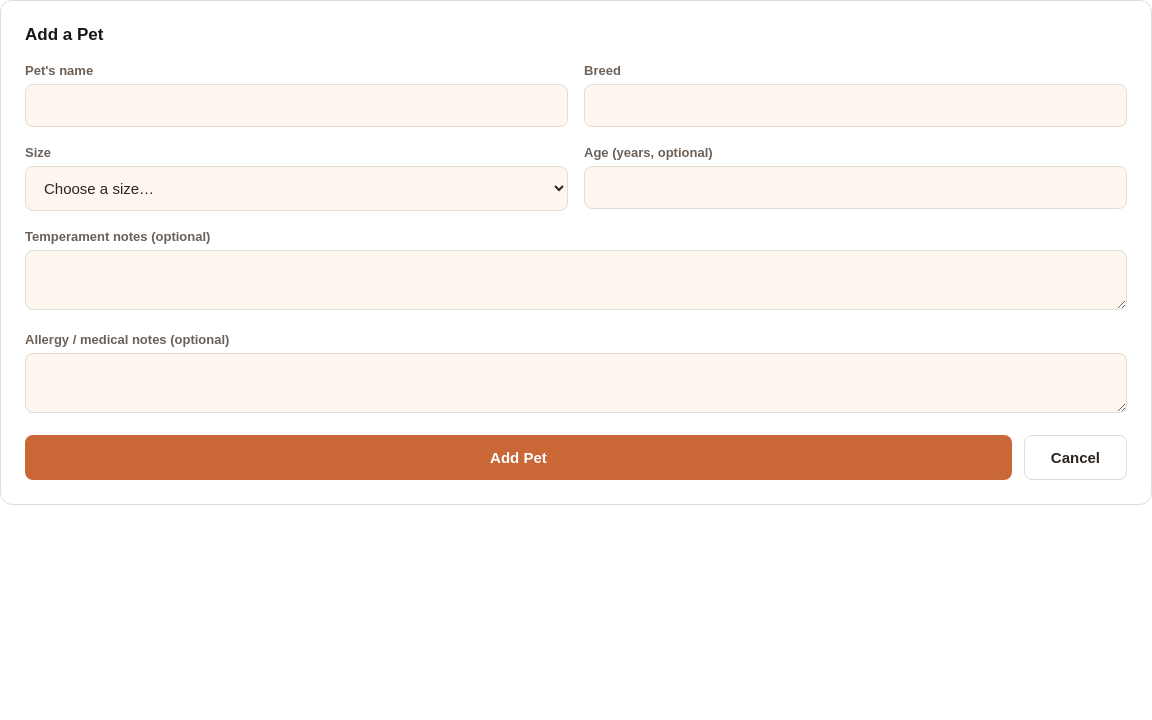
Test: PetForm — form validation › add mode: rejects an empty submission with a name-required error
Click the button with test id "add-pet-form-save-button": (518,458) left=25, top=435, right=1012, bottom=480
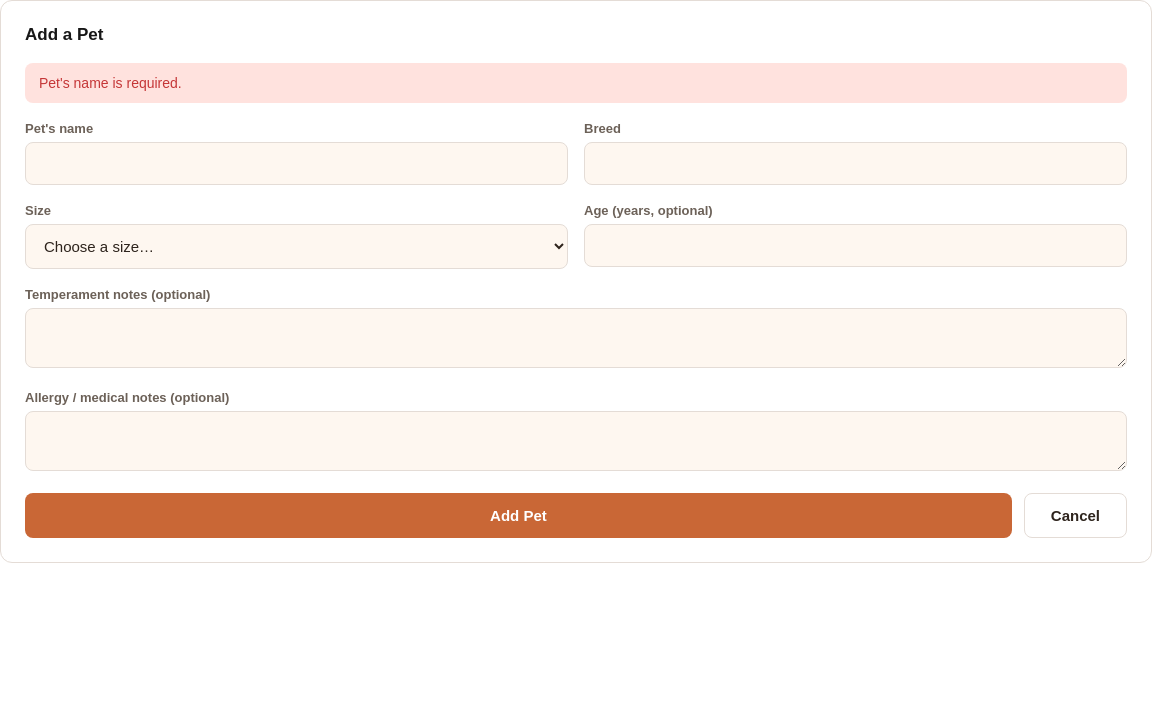
Expected: the text with test id "add-pet-form-error" reads "Pet's name is required.", left=39, top=75, right=182, bottom=91
